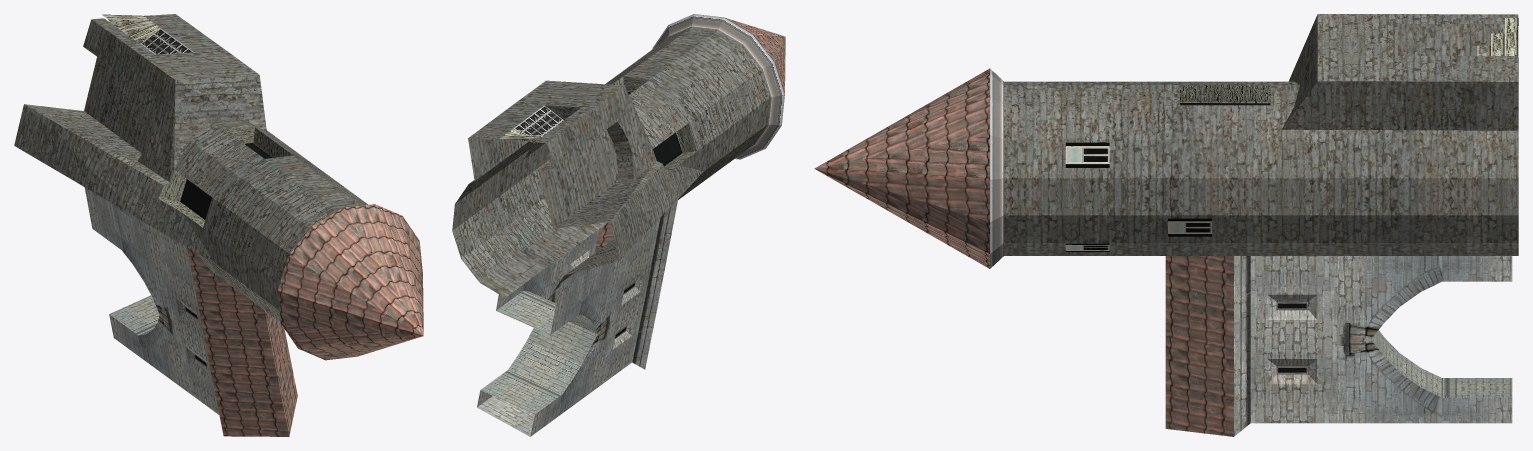
File: Viru26b.obj
3 renders of one model, left to right at view 1: azimuth 30°, elevation 25°; view 2: azimuth 150°, elevation 25°; view 3: azimuth 270°, elevation 25°, orthographic. The views are drawn at different scales.
Visible parts, largest first — view 1: Viru26b; view 2: Viru26b; view 3: Viru26b.
Part boxes in pixels (box(x1,y1,x2,y2)): Viru26b: box(14, 14, 423, 436); Viru26b: box(452, 14, 785, 436); Viru26b: box(814, 14, 1518, 436).
Bounding box in the file's own units: 6.06 × 10.32 × 16.43.
